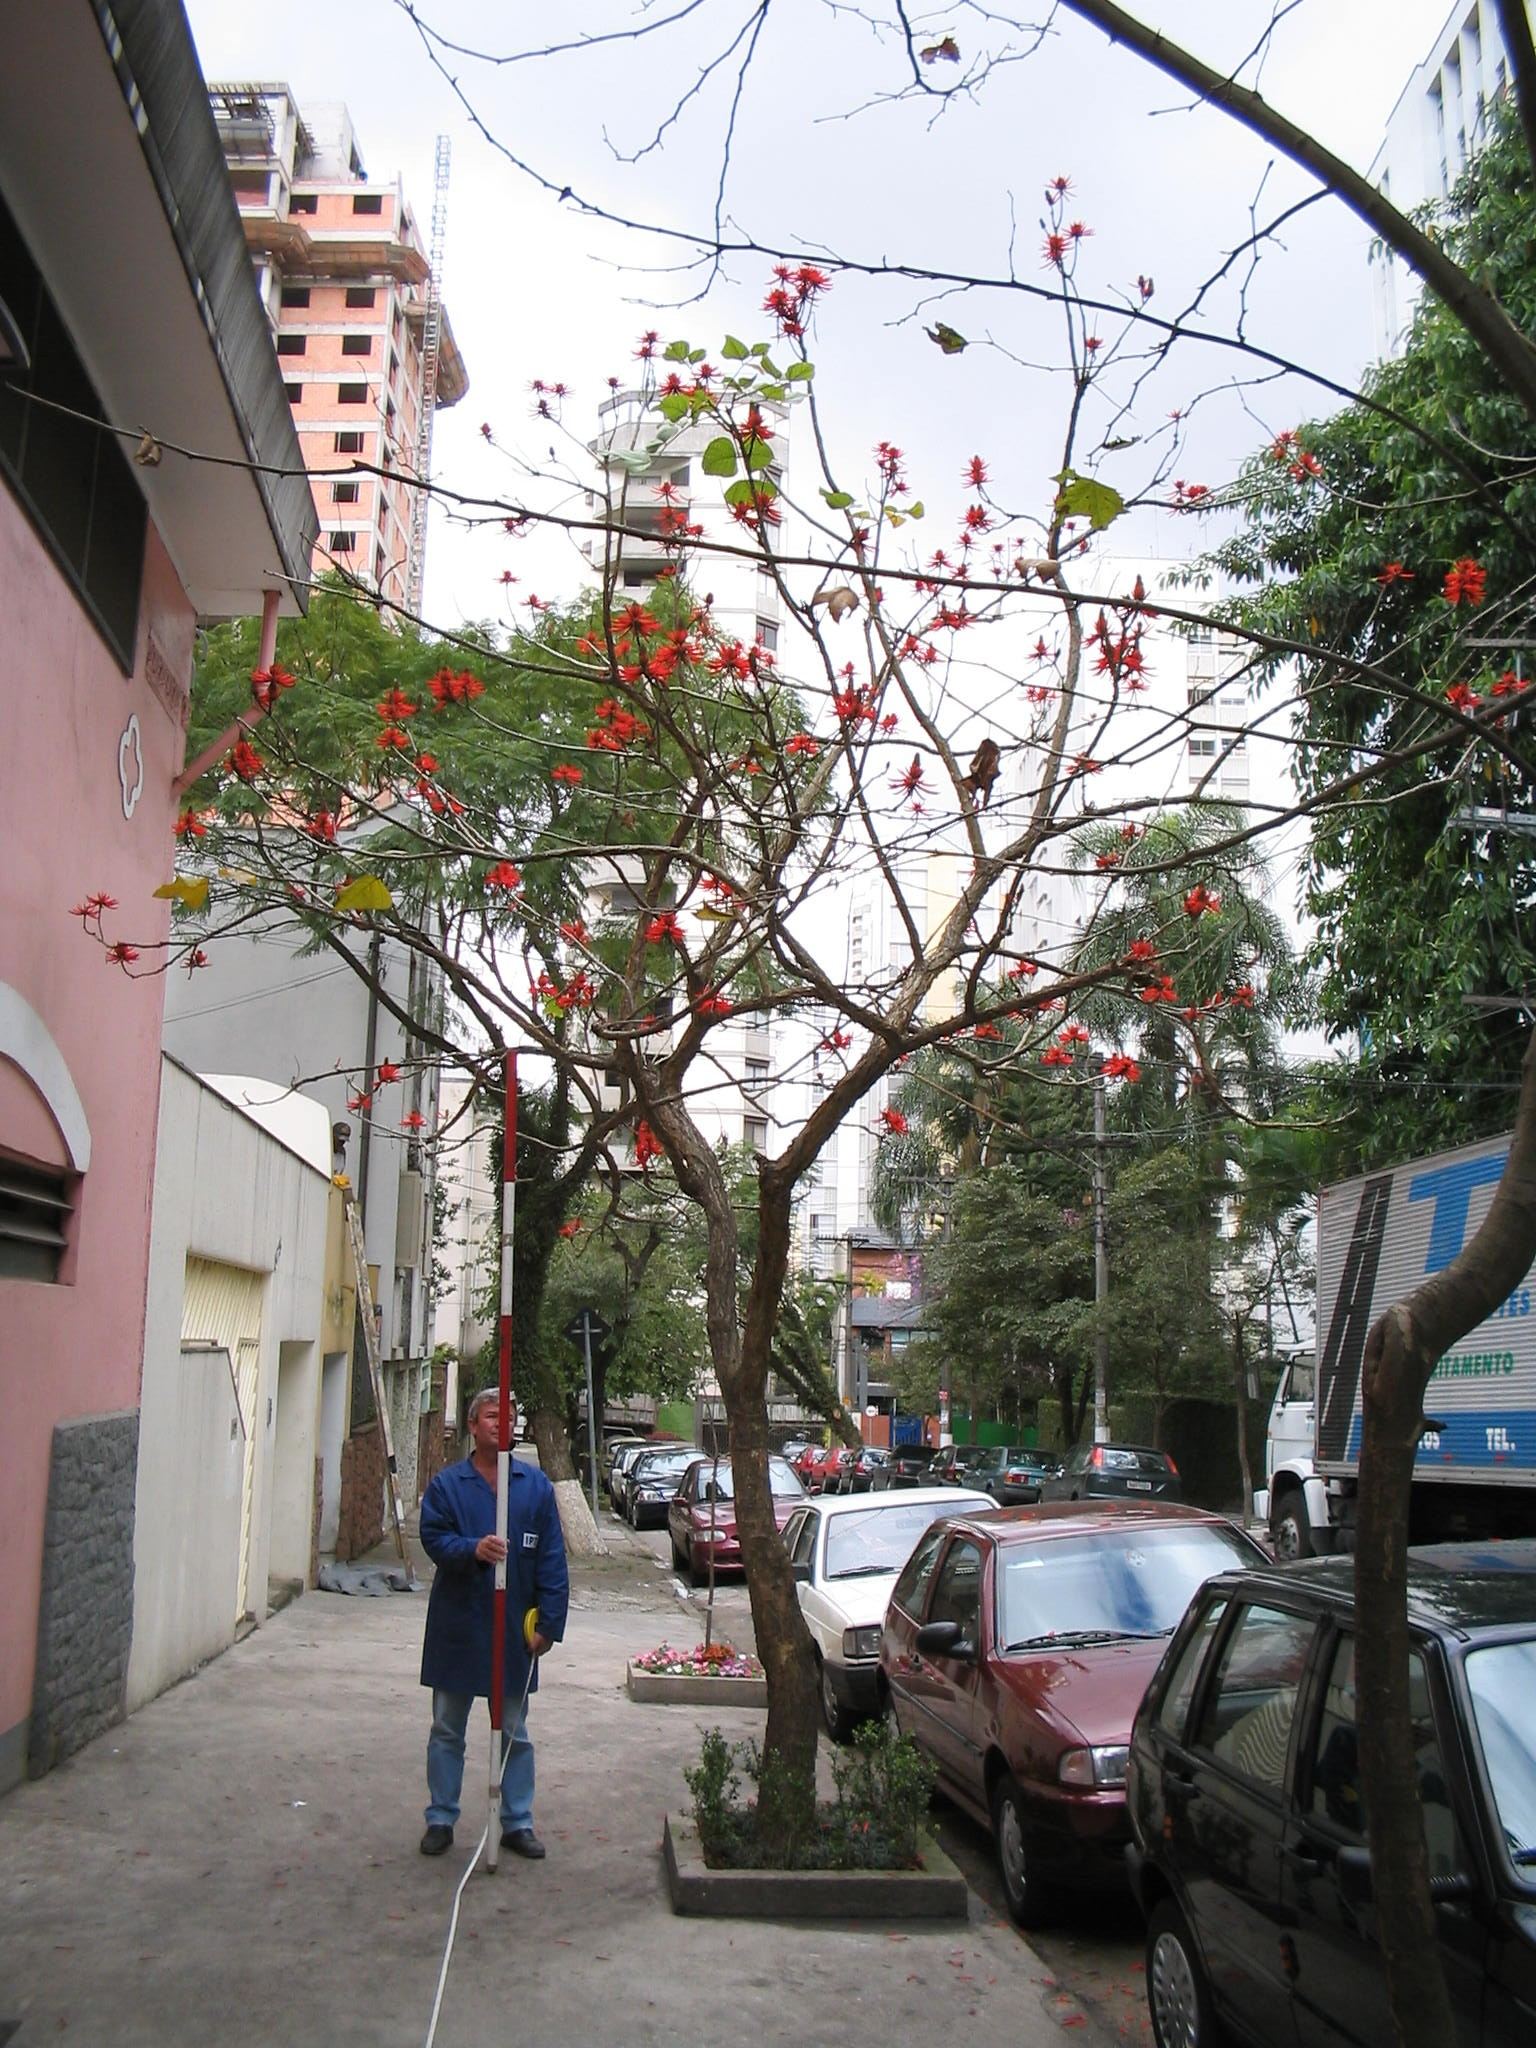stem: (674, 1421, 865, 1866)
stick: (466, 1053, 532, 1877)
tree: (65, 176, 1352, 1879)
